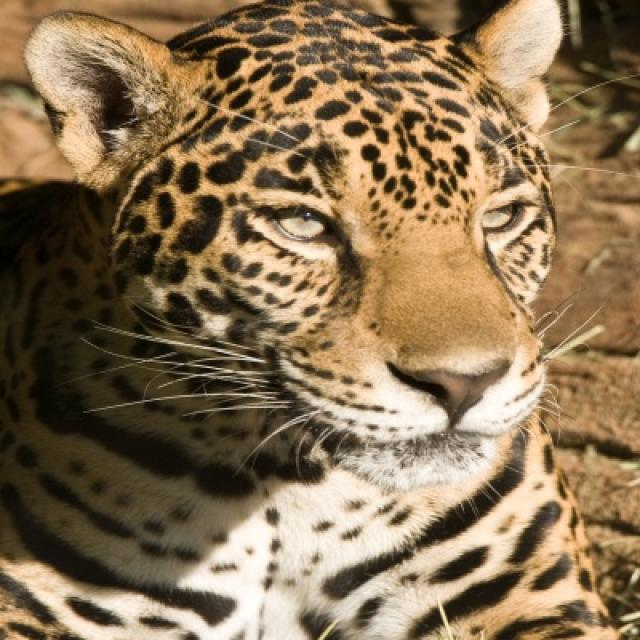Jaguar: (0, 0, 634, 638)
